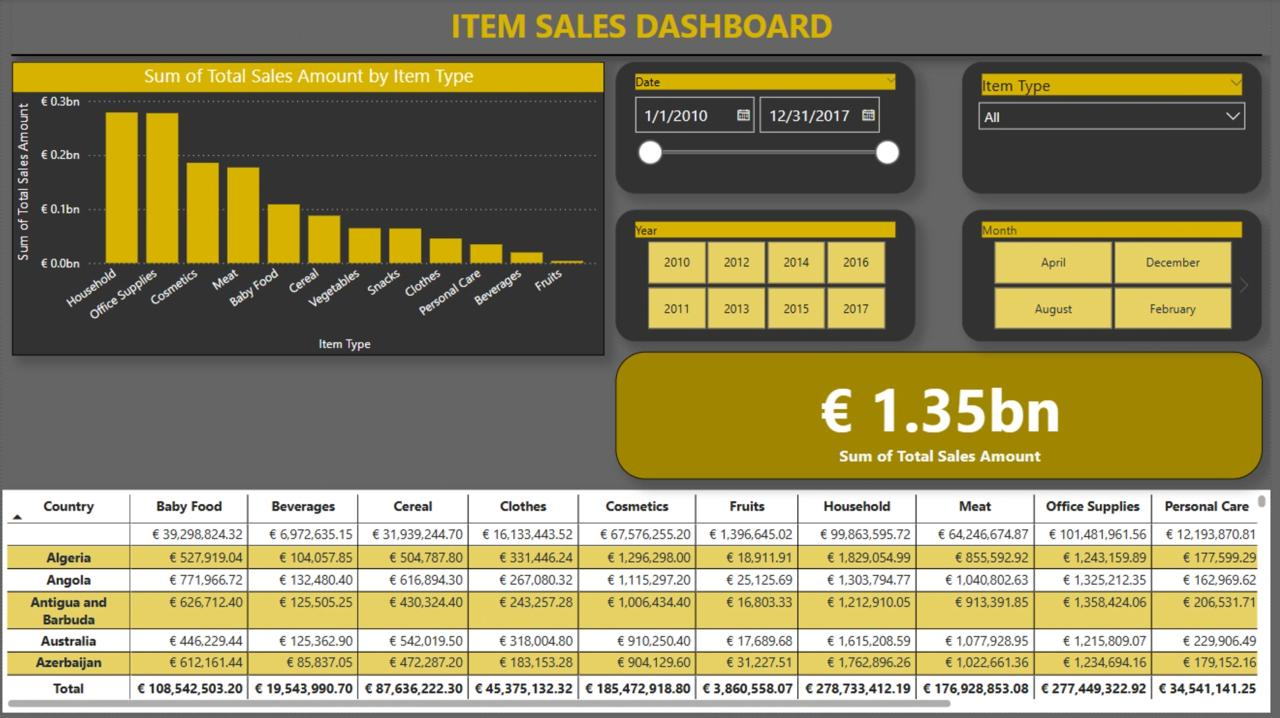

The page's visual inventory and layout, read from the dashboard file:
{"tool":"powerbi","page":{"name":"SALES","canvas":[1280,720],"ordinal":0},"visuals":[{"type":"textbox","box":[9.7,0,1270.3,56.4],"z":0},{"type":"slicer","fields":{"Values":["DATE.Year"]},"box":[618.8,212.5,302.5,132.5],"z":1000},{"type":"shape","box":[0,47.7,1280,16.5],"z":2000},{"type":"slicer","fields":{"Values":["ITEM.Item Type"]},"box":[968.8,63.8,302.5,132.5],"z":3000},{"type":"lineStackedColumnComboChart","fields":{"Category":["ITEM.Item Type"],"Y":["Sum(SALES.Total Sales Amount)"]},"box":[10,63.8,597.5,296.2],"z":4000},{"type":"pivotTable","fields":{"Rows":["COUNTRY.Country"],"Columns":["ITEM.Item Type"],"Values":["Sum(SALES.Total Sales Amount)"]},"box":[0,495,1280,225],"z":5000},{"type":"card","fields":{"Values":["Sum(SALES.Total Sales Amount)"]},"box":[618.8,356.2,652.5,128.8],"z":6000},{"type":"slicer","fields":{"Values":["date.Month"]},"box":[968.8,212.5,302.5,132.5],"z":7000},{"type":"slicer","fields":{"Values":["date.Date"]},"box":[618.8,63.8,302.5,132.5],"z":8000}]}

Visuals, with their boxes in screenshot pixels (x1, y1, x2, y2), scaled from the page's 1280x720 canvas onto the 1280x718 screenshot:
textbox: x1=10, y1=0, x2=1279, y2=56
slicer - DATE.Year: x1=619, y1=212, x2=921, y2=344
shape: x1=0, y1=48, x2=1279, y2=64
slicer - ITEM.Item Type: x1=969, y1=64, x2=1271, y2=196
lineStackedColumnComboChart - ITEM.Item Type x Sum(SALES.Total Sales Amount): x1=10, y1=64, x2=608, y2=359
pivotTable - COUNTRY.Country x ITEM.Item Type: x1=0, y1=494, x2=1279, y2=717
card - Sum(SALES.Total Sales Amount): x1=619, y1=355, x2=1271, y2=484
slicer - date.Month: x1=969, y1=212, x2=1271, y2=344
slicer - date.Date: x1=619, y1=64, x2=921, y2=196
